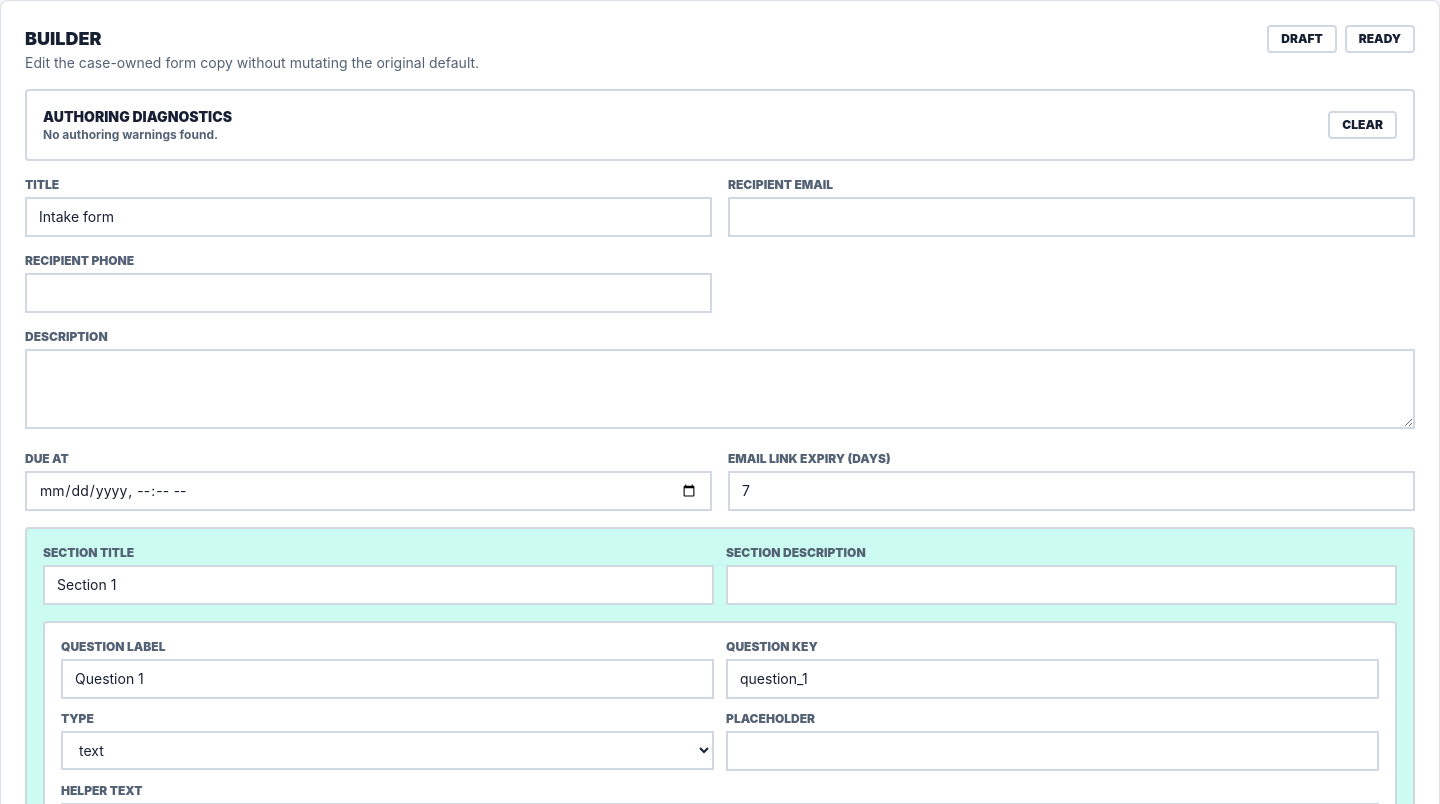
Test case: CaseFormsBuilderCard › relabels and seeds single-checkbox placeholder text
This screenshot has width=1440, height=804.
Step 1. Select "checkbox" in the dropdown → (388, 750), box [61, 731, 714, 770]
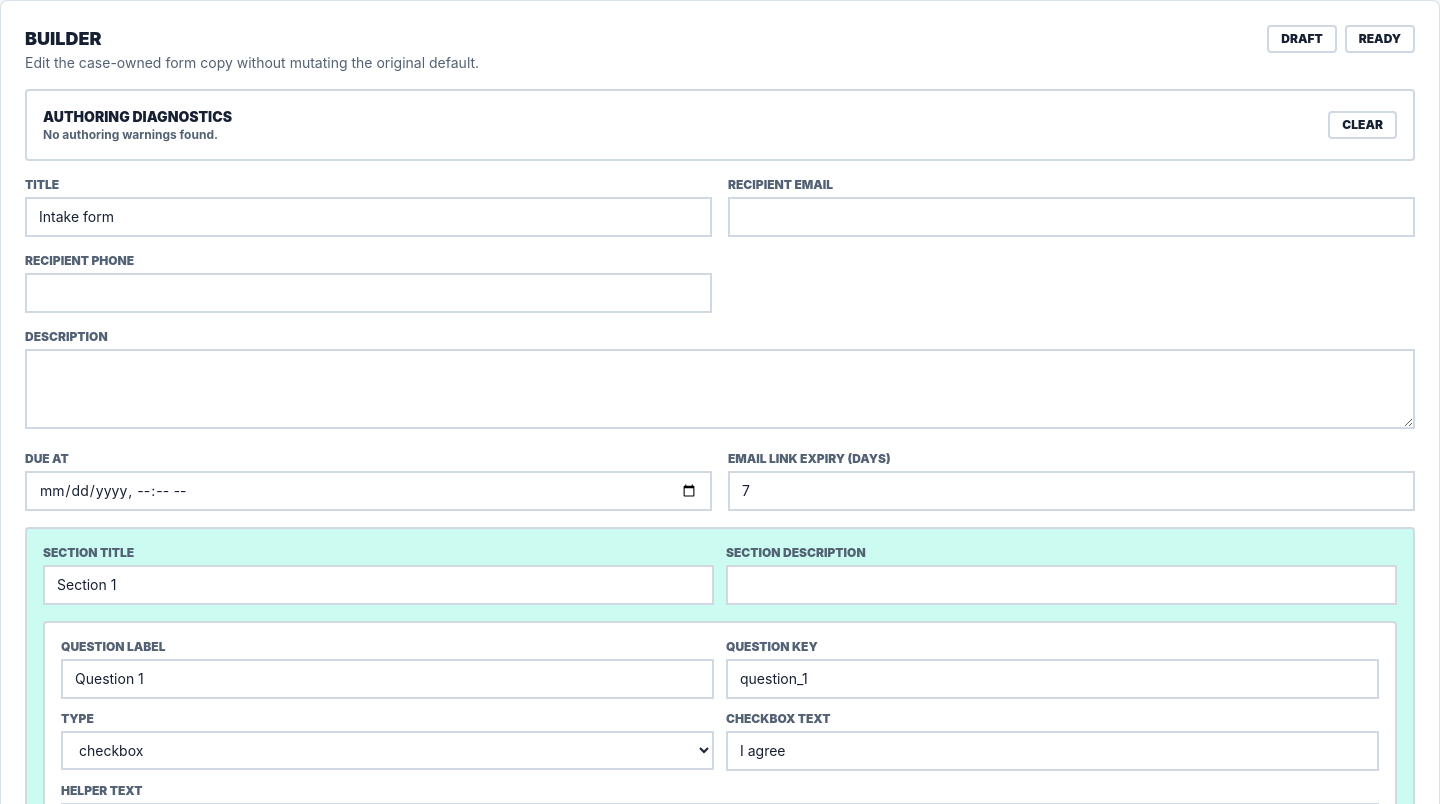
Expected: the text "Checkbox Text" is shown, [726, 711, 830, 726]
Expected: the field showing "I agree" is shown, [726, 731, 1379, 771]
